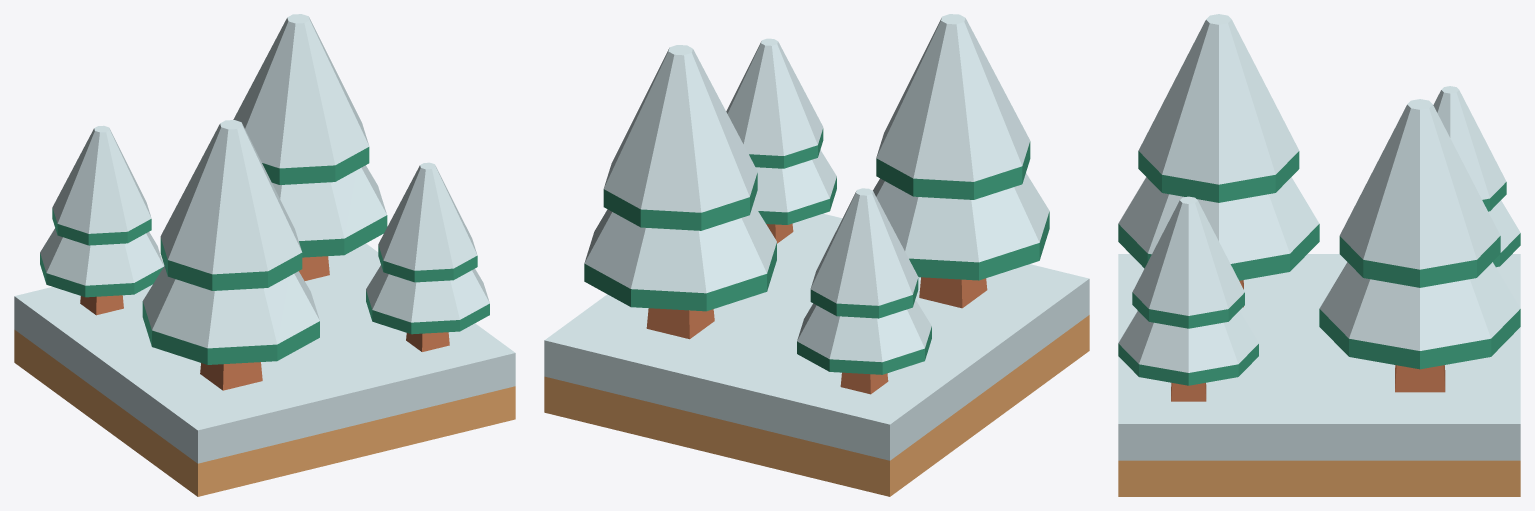
3 views of the same model, side by side, from view 1: azimuth 30°, elevation 25°; view 2: azimuth 150°, elevation 25°; view 3: azimuth 270°, elevation 25° (orthographic). The views are drawn at different scales.
Parts seen in each view (by area): view 1: tree, snow_tile_treeQuad; view 2: tree, snow_tile_treeQuad; view 3: tree, snow_tile_treeQuad.
Boxes of the visible parts, box(x1,y1,x2,y2) form: tree: box(40, 14, 489, 390); snow_tile_treeQuad: box(14, 243, 515, 496); tree: box(584, 14, 1049, 394); snow_tile_treeQuad: box(544, 213, 1089, 496); tree: box(1118, 14, 1520, 401); snow_tile_treeQuad: box(1118, 254, 1520, 496).
Bounding box in the file's own units: 1 × 0.96 × 1.
